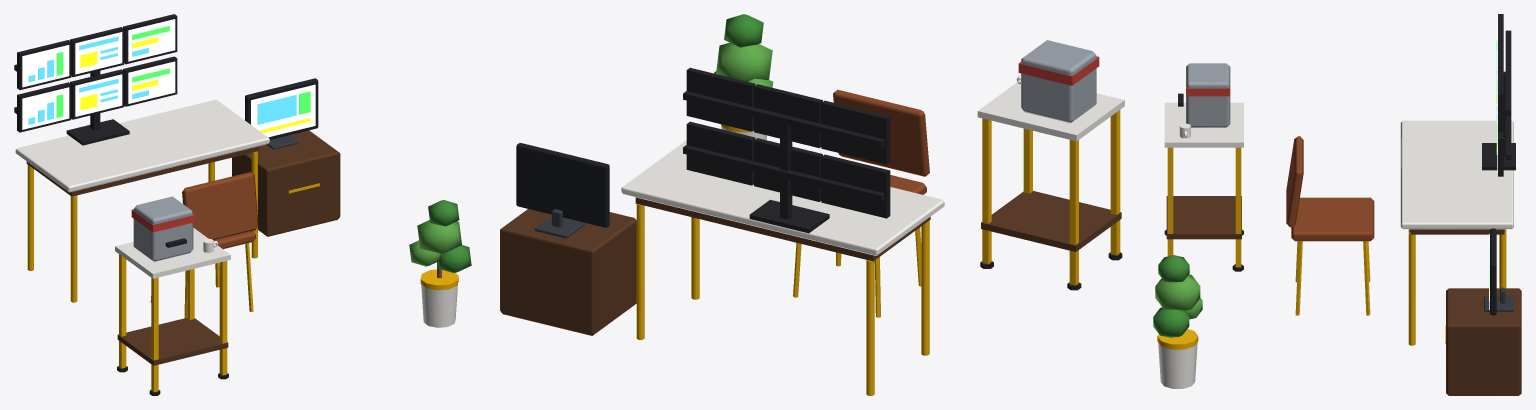
File: station_intake_2.glb
The picture shows the model from 3 angles, left to right: view 1: azimuth 30°, elevation 25°; view 2: azimuth 150°, elevation 25°; view 3: azimuth 270°, elevation 25°; orthographic projection. The views are drawn at different scales.
Parts seen in each view (by area): view 1: station_intake_2; view 2: station_intake_2; view 3: station_intake_2.
Part boxes in pixels (bbox=[...]): station_intake_2: bbox=[14, 14, 471, 395]; station_intake_2: bbox=[500, 14, 1124, 395]; station_intake_2: bbox=[1153, 14, 1521, 395].
Size of the model in its own units: 2.07 by 1.35 by 1.95.
